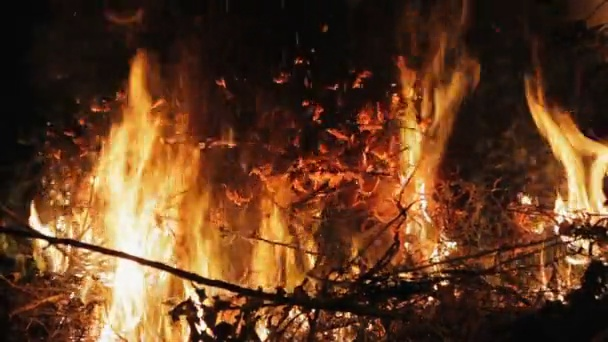fire: (24, 60, 209, 342), (521, 73, 608, 265), (382, 96, 441, 231), (424, 237, 457, 280), (27, 202, 41, 228), (521, 195, 529, 203)
